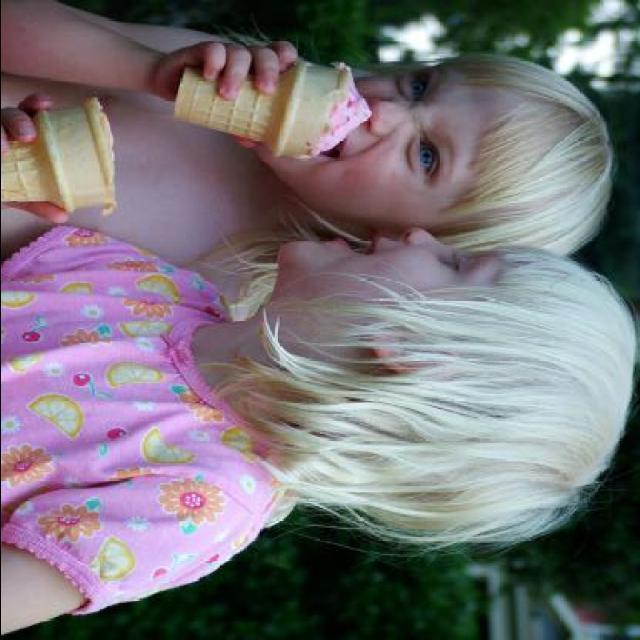Ice cream: (185, 44, 382, 150), (0, 97, 114, 217)
